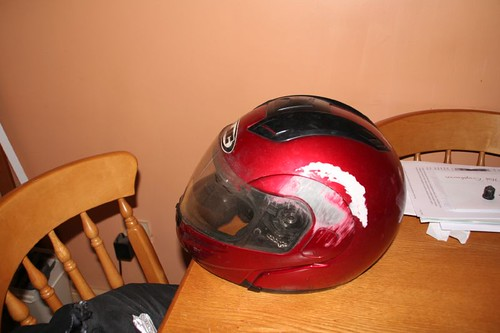helmet: (154, 68, 407, 300)
